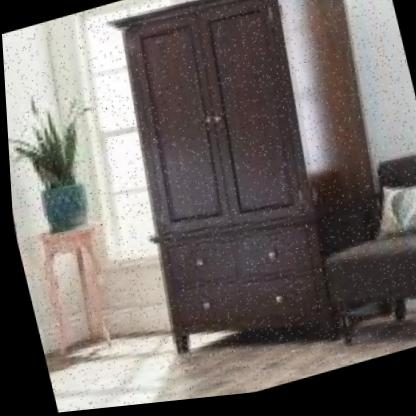Chair: (293, 147, 416, 371)
Closet: (74, 0, 416, 406)
Table: (21, 215, 129, 371)
